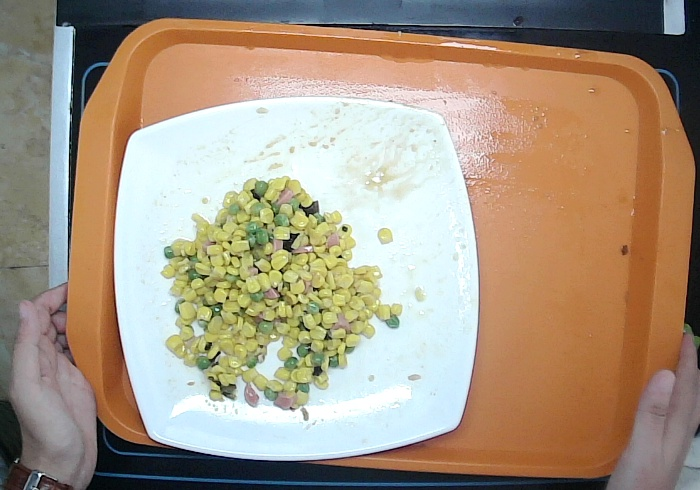ZNLD-Bai_Fang_Pan: (110, 94, 482, 462)
